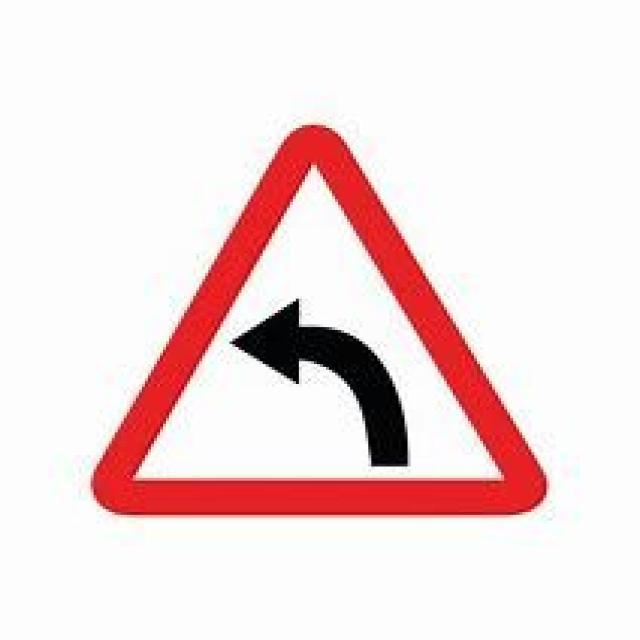left hand curve: (86, 120, 549, 514)
